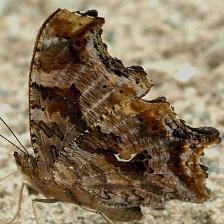butterfly: (14, 9, 221, 222)
